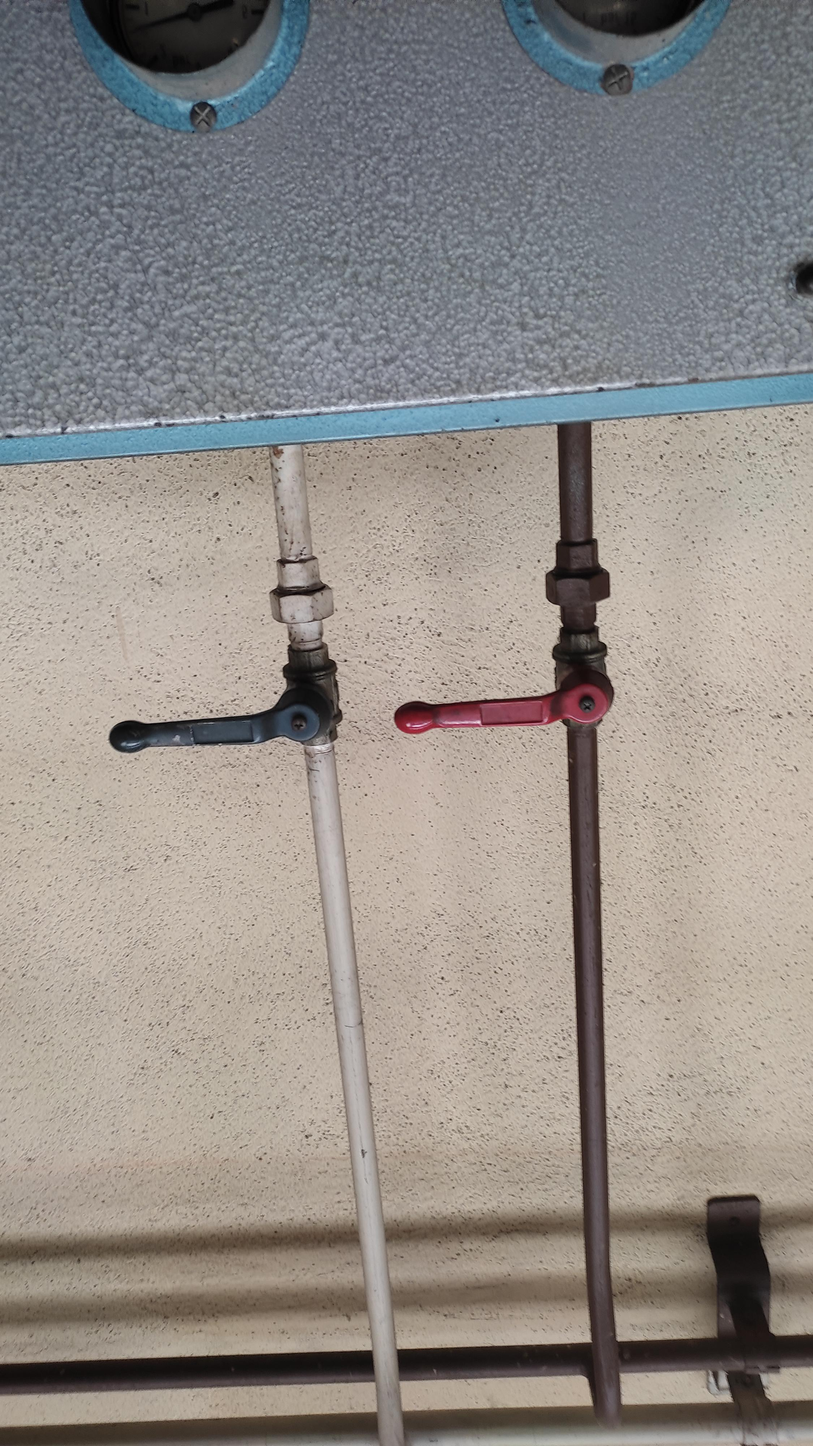closed valve: (108, 644, 347, 756), (392, 626, 617, 736)
